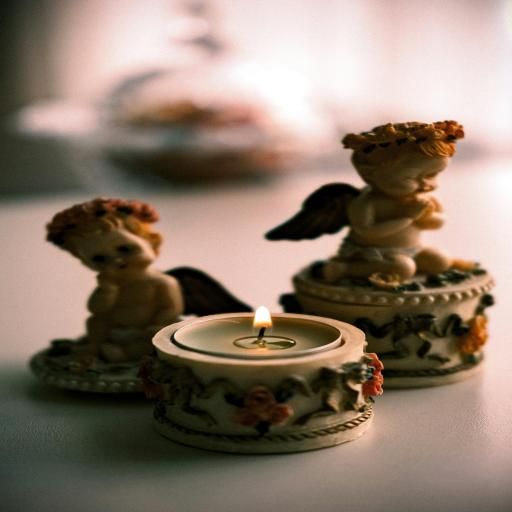candlelight: (166, 287, 375, 436)
